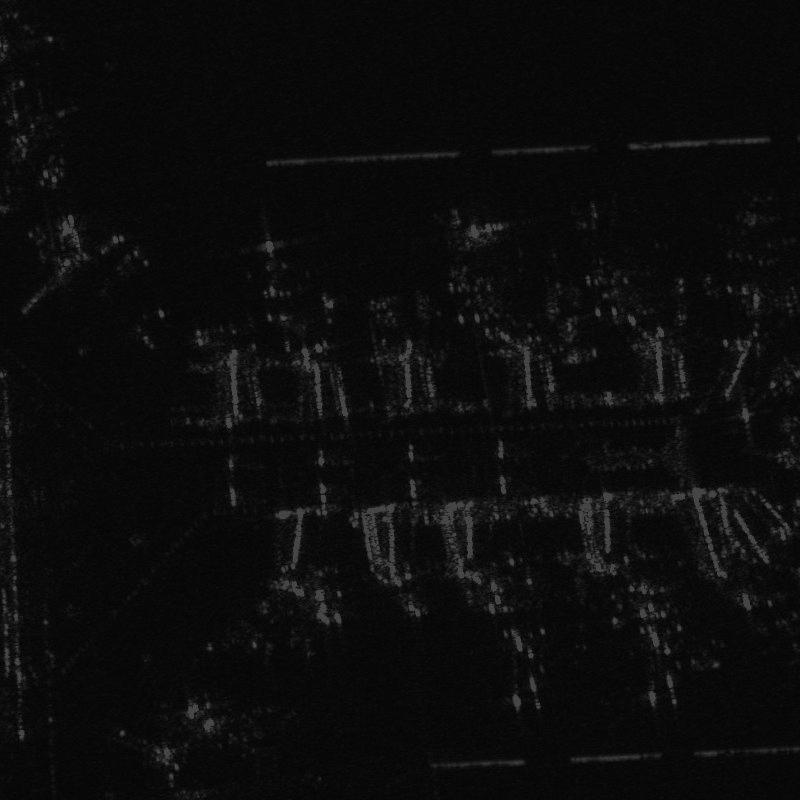A220: (240, 232, 311, 327)
A320/321: (422, 200, 513, 328), (564, 198, 649, 319), (615, 594, 696, 711)
A330: (175, 691, 298, 773)
Boeing737: (731, 583, 799, 668)
Boeing787: (476, 617, 563, 711)
